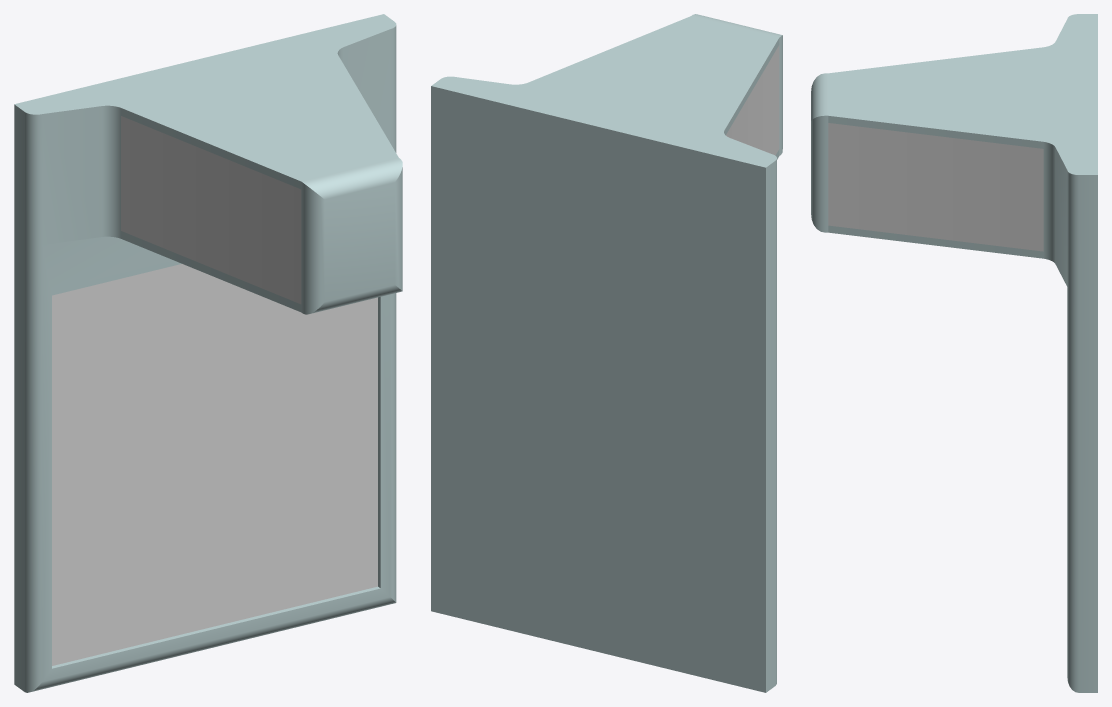
The model's file is elevatorSign.glb.
The picture shows the model from 3 angles, left to right: view 1: azimuth 30°, elevation 25°; view 2: azimuth 150°, elevation 25°; view 3: azimuth 270°, elevation 25°; orthographic projection. The views are drawn at different scales.
Visible parts, largest first — view 1: Cube; view 2: Cube; view 3: Cube.
Boxes of the visible parts, bbox=[...] form: Cube: bbox=[14, 14, 402, 692]; Cube: bbox=[431, 14, 782, 692]; Cube: bbox=[811, 14, 1097, 692].
Bounding box in the file's own units: 0.3311 × 0.4963 × 0.2492.
